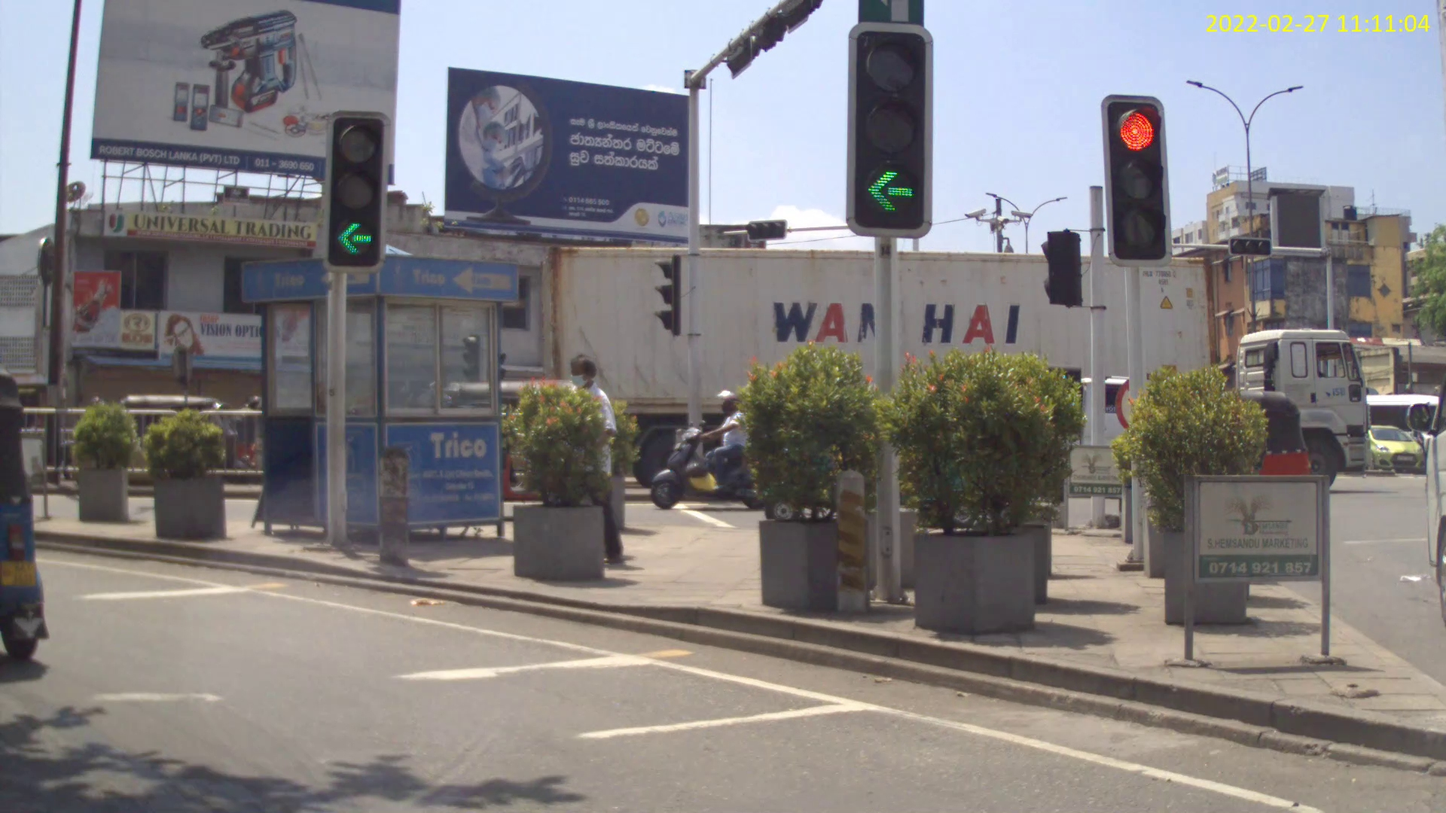green: (845, 22, 932, 238), (323, 110, 389, 272)
